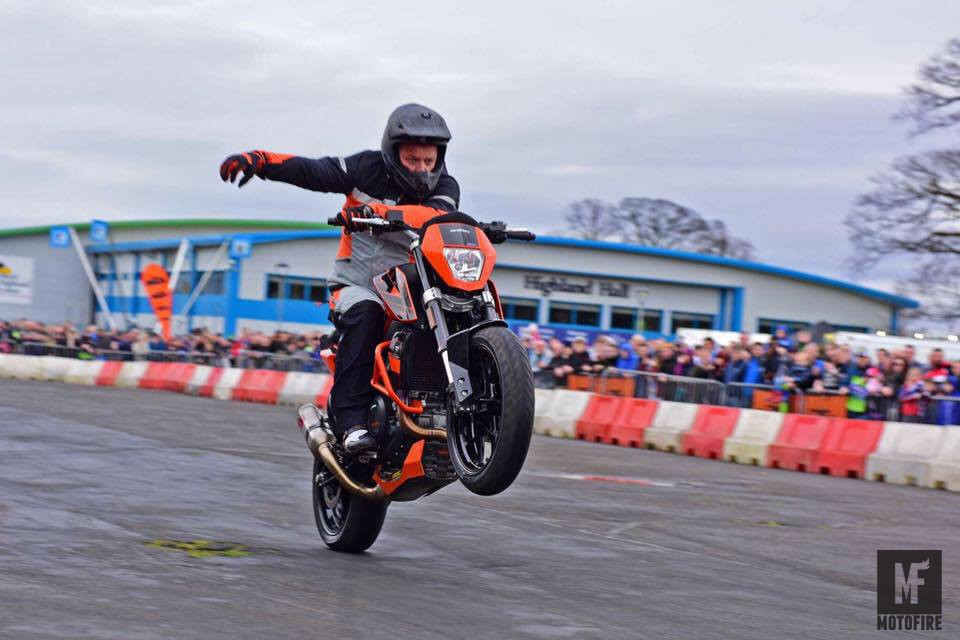helmet: (362, 90, 487, 269)
